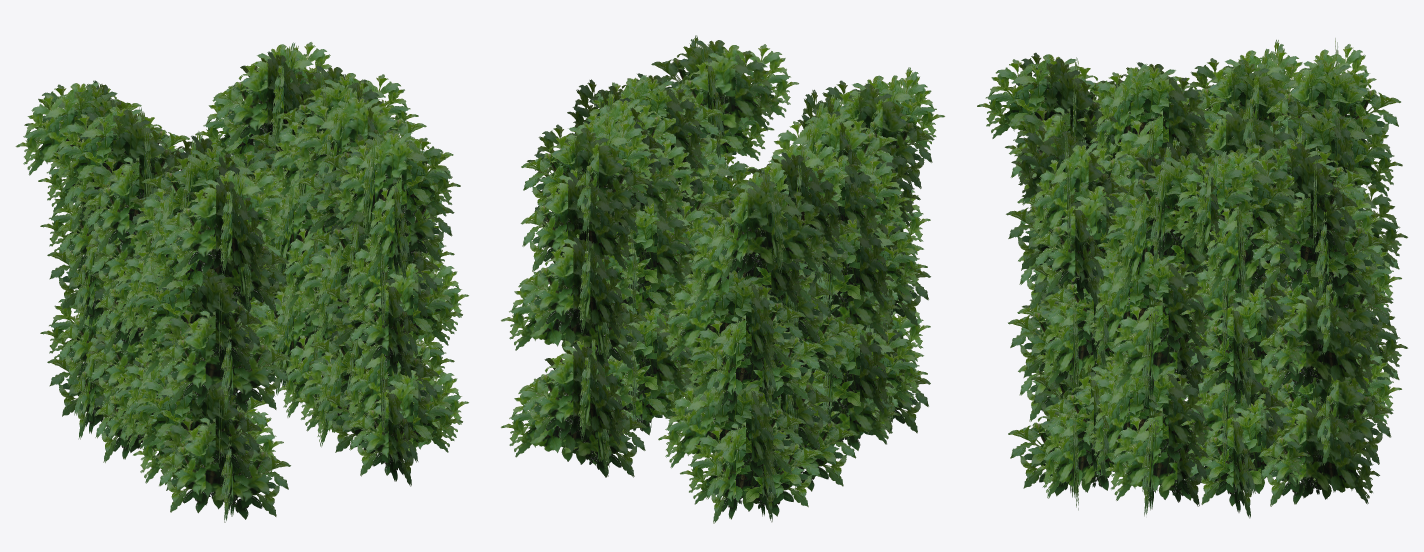
The model's file is plants.fbx.
3 renders of one model, left to right at view 1: azimuth 30°, elevation 25°; view 2: azimuth 150°, elevation 25°; view 3: azimuth 270°, elevation 25°, orthographic. The views are drawn at different scales.
Parts seen in each view (by area): view 1: Plant.006, Plant.007, Plant.002, Plant.005, Plant, Plant.003, Plant.004, Plant.001; view 2: Plant, Plant.001, Plant.004, Plant.003, Plant.002, Plant.006, Plant.007, Plant.005; view 3: Plant.001, Plant.005, Plant.007, Plant.003, Plant, Plant.006, Plant.004, Plant.002.
Part boxes in pixels (<box>): Plant.006: <box>125,168,291,522</box>; Plant.007: <box>319,130,468,486</box>; Plant.002: <box>47,106,189,462</box>; Plant.005: <box>287,74,454,447</box>; Plant: <box>15,80,162,439</box>; Plant.003: <box>249,61,418,425</box>; Plant.004: <box>106,131,286,492</box>; Plant.001: <box>195,42,331,396</box>; Plant: <box>658,164,831,523</box>; Plant.001: <box>501,111,661,477</box>; Plant.004: <box>768,89,927,450</box>; Plant.003: <box>567,79,711,435</box>; Plant.002: <box>695,140,858,491</box>; Plant.006: <box>804,67,944,433</box>; Plant.007: <box>651,35,798,347</box>; Plant.005: <box>586,73,729,427</box>; Plant.001: <box>1244,137,1401,506</box>; Plant.005: <box>1076,137,1263,516</box>; Plant.007: <box>1006,126,1167,510</box>; Plant.003: <box>1167,149,1310,518</box>; Plant: <box>1266,38,1407,405</box>; Plant.006: <box>977,52,1146,421</box>; Plant.004: <box>1077,62,1226,400</box>; Plant.002: <box>1178,39,1316,387</box>.
Size of the model in its own units: 501 by 495 by 542.
